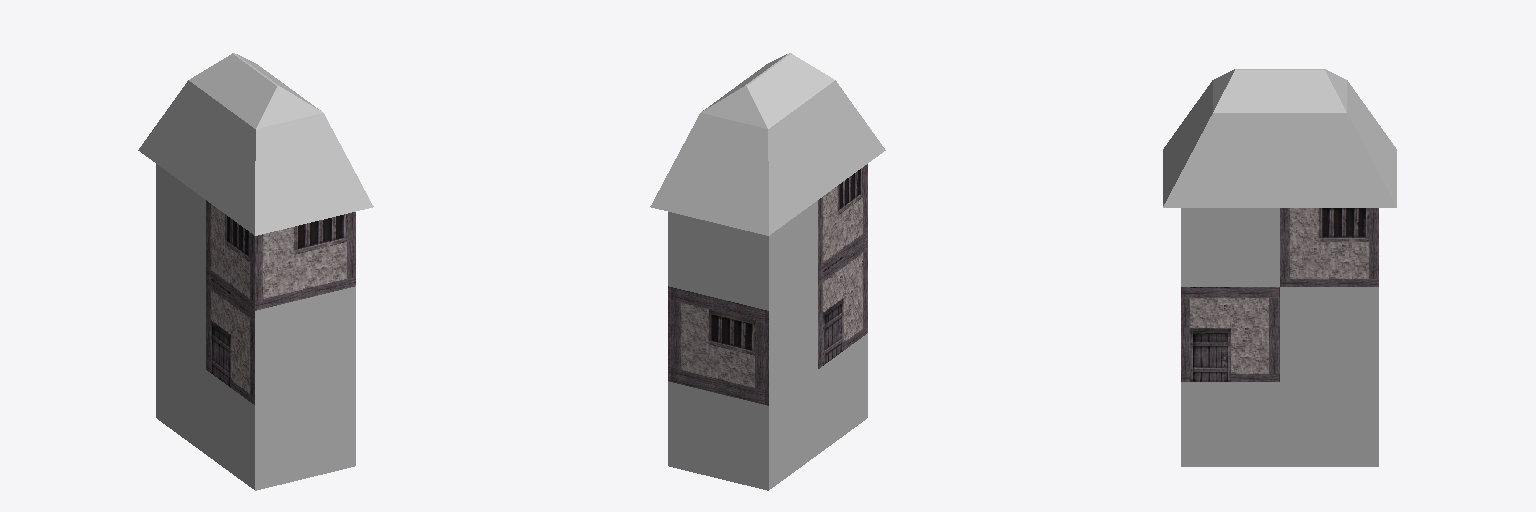
3 views of the same model, side by side, from view 1: azimuth 30°, elevation 25°; view 2: azimuth 150°, elevation 25°; view 3: azimuth 270°, elevation 25° (orthographic).
Visible parts, largest first — view 1: Plane; view 2: Plane; view 3: Plane.
Boxes of the visible parts, box(x1,y1,x2,y2) form: Plane: box(138, 53, 373, 490); Plane: box(650, 53, 885, 490); Plane: box(1163, 69, 1396, 466).
Size of the model in its own units: 0.0904 by 0.2712 by 0.1547.
Materials: 4 (2 with a texture image).